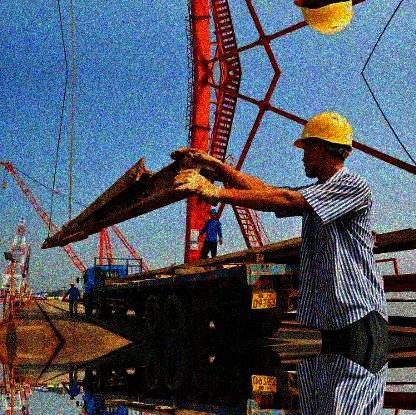helmet: (293, 111, 353, 179), (208, 209, 219, 220), (69, 397, 76, 403), (70, 283, 75, 288)
